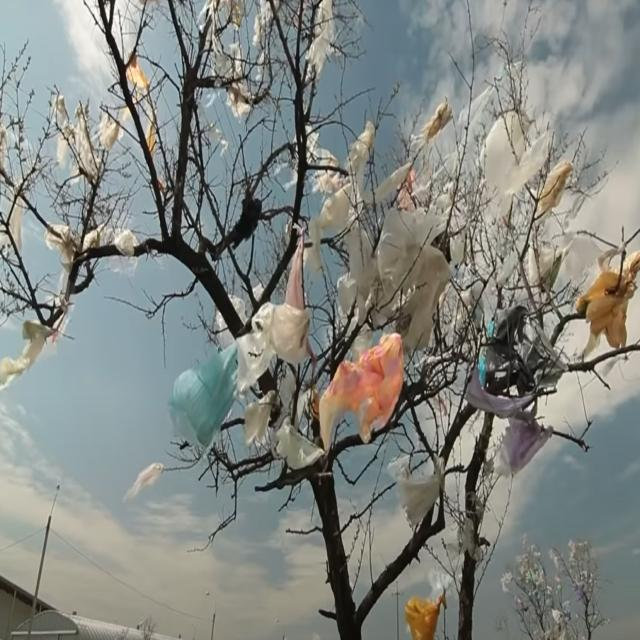litter: (339, 188, 444, 335), (318, 328, 414, 453), (478, 90, 569, 220), (468, 350, 546, 483), (161, 334, 246, 454), (532, 227, 614, 313), (44, 215, 146, 275), (0, 300, 56, 406), (251, 295, 317, 380), (392, 450, 447, 538), (272, 414, 324, 491), (286, 242, 320, 345), (402, 579, 454, 640), (304, 3, 338, 87), (120, 456, 168, 513)
